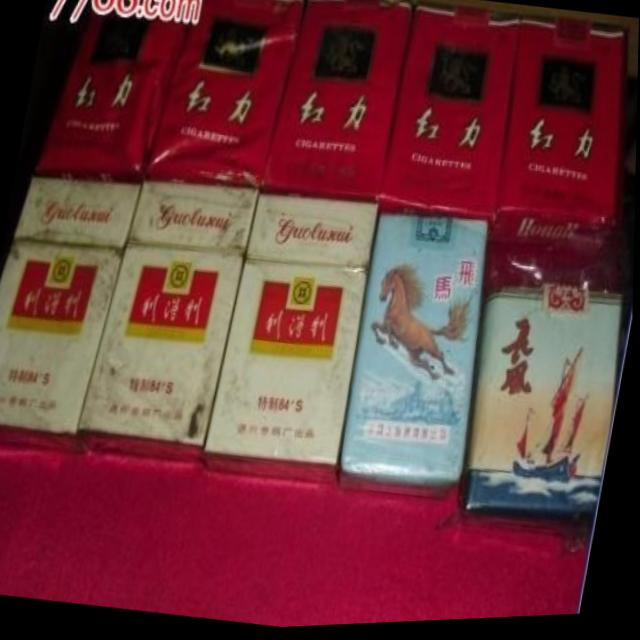box: (80, 181, 262, 465), (206, 188, 381, 480), (464, 246, 626, 533), (341, 216, 491, 501), (0, 173, 143, 454), (377, 7, 522, 240), (490, 21, 625, 263), (143, 0, 304, 190), (262, 1, 413, 203), (34, 15, 189, 181)
